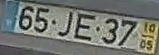3: (100, 17, 120, 45)
5: (32, 6, 50, 33)
6: (17, 4, 35, 31)
7: (117, 19, 139, 47)
E: (72, 12, 96, 42)
J: (56, 10, 74, 37)
